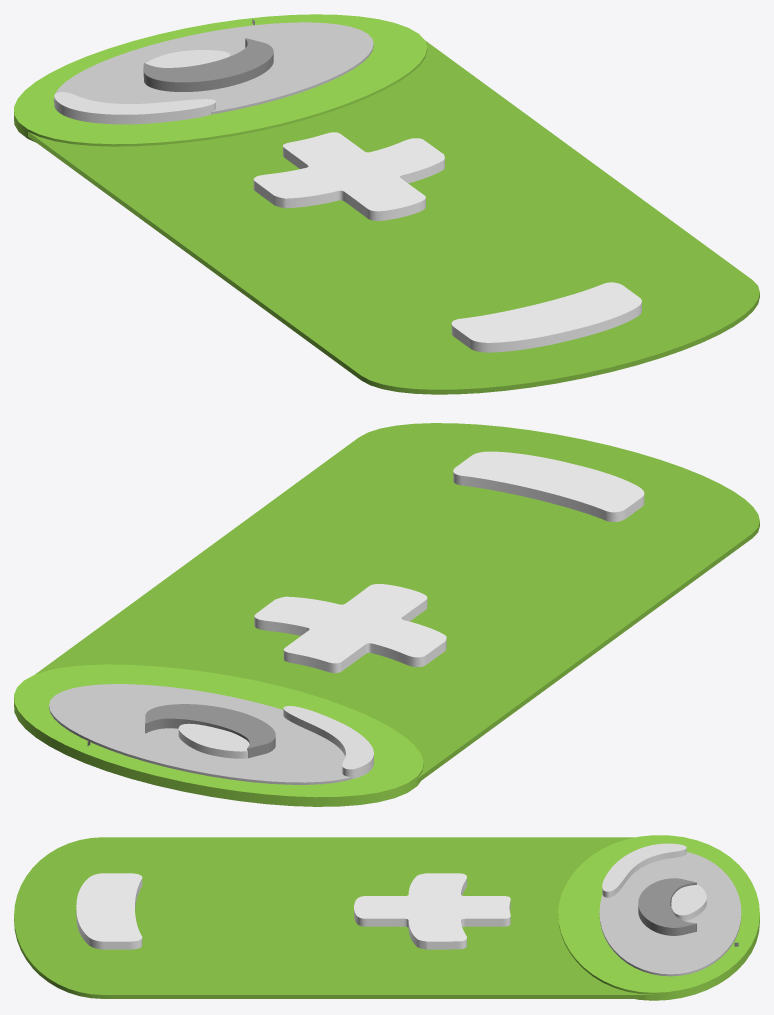
Rendered from emoji_u1f50b.glb.
3 views of the same model, one above another, from view 1: azimuth 30°, elevation 25°; view 2: azimuth 150°, elevation 25°; view 3: azimuth 270°, elevation 25° (orthographic). The views are drawn at different scales.
Visible parts, largest first — view 1: emoji_u1f50b; view 2: emoji_u1f50b; view 3: emoji_u1f50b.
Part boxes in pixels (x1,y1,x2,y2): emoji_u1f50b: (14, 14, 759, 394); emoji_u1f50b: (14, 423, 759, 806); emoji_u1f50b: (14, 835, 759, 1000).
Size of the model in its own units: 0.0169 by 0.0014 by 0.0338.
